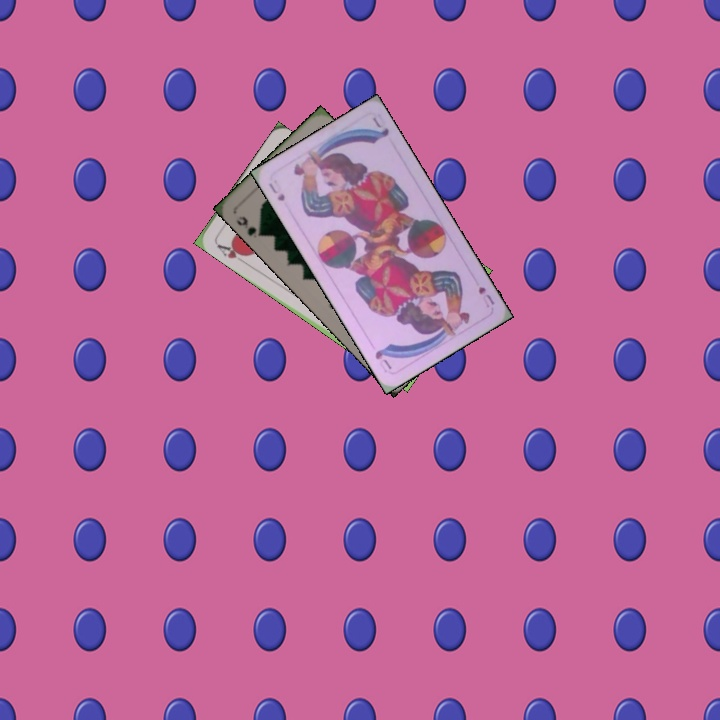G9: (232, 212, 266, 239)
HA: (212, 238, 250, 266)
SU: (265, 175, 288, 204), (474, 282, 497, 310)
